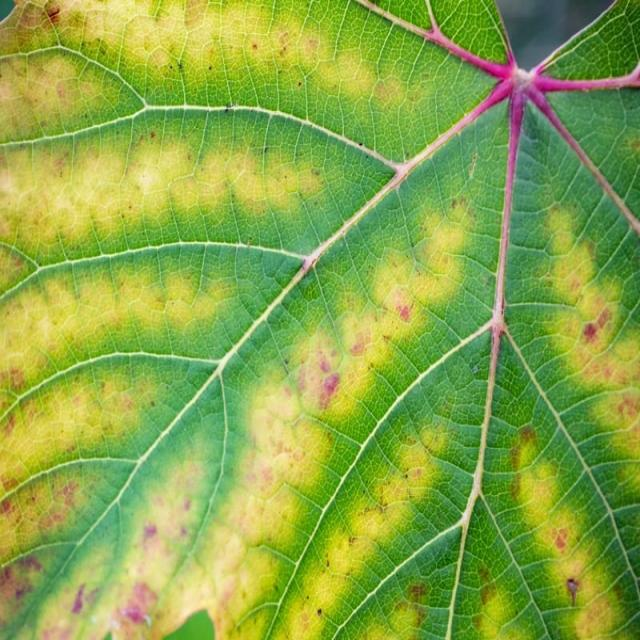Chlorosis: (14, 14, 640, 629)
